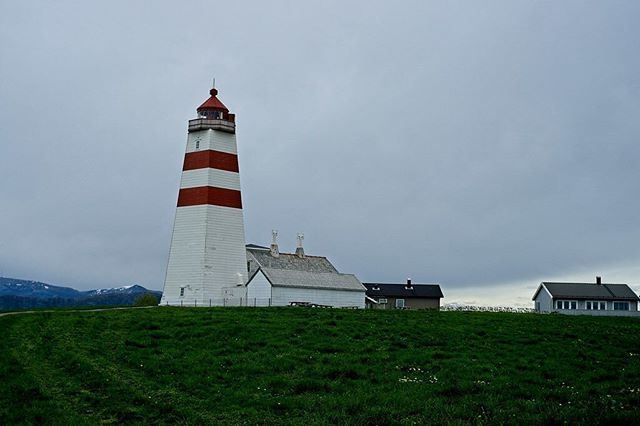building: (157, 86, 247, 306), (247, 237, 372, 305), (531, 278, 635, 320), (363, 273, 447, 308)
grass: (4, 312, 640, 426)
sky: (1, 1, 633, 281)
